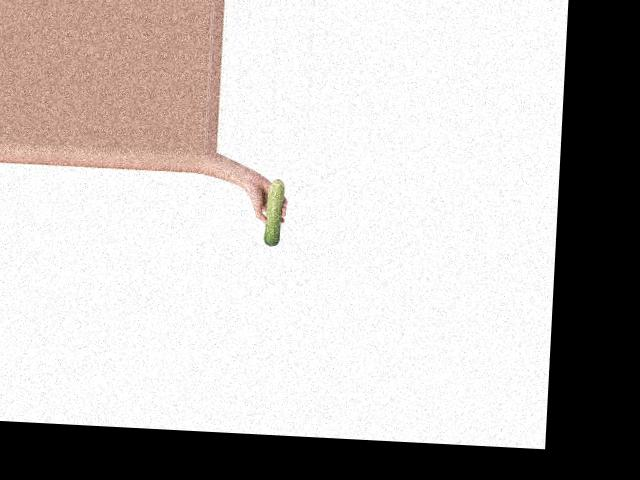cucumber: (262, 177, 284, 247)
